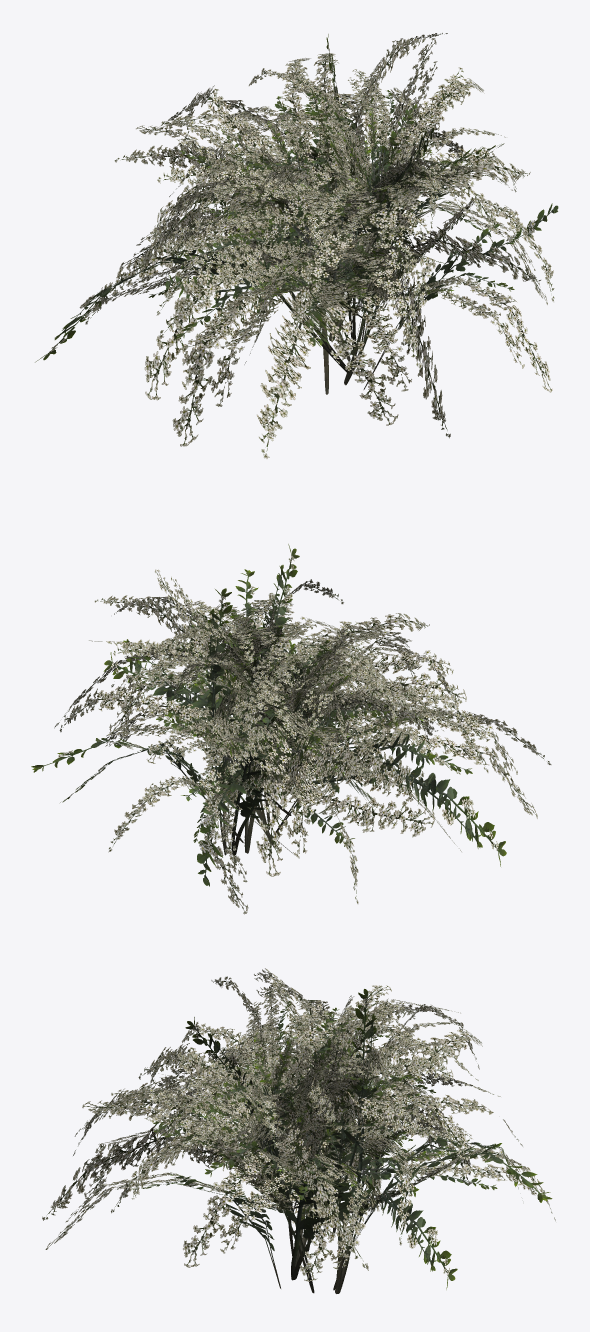
Rendered from bg_anh_foliage_briwreath01_sm_ksy.FBX.
3 views of the same model, one above another, from view 1: azimuth 30°, elevation 25°; view 2: azimuth 150°, elevation 25°; view 3: azimuth 270°, elevation 25° (orthographic). The views are drawn at different scales.
Parts seen in each view (by area): view 1: bg_anh_foliage_briwreath01_sm_ksy; view 2: bg_anh_foliage_briwreath01_sm_ksy; view 3: bg_anh_foliage_briwreath01_sm_ksy.
Boxes of the visible parts, <box> form: bg_anh_foliage_briwreath01_sm_ksy: <box>35,33,558,458</box>; bg_anh_foliage_briwreath01_sm_ksy: <box>31,544,551,914</box>; bg_anh_foliage_briwreath01_sm_ksy: <box>42,968,555,1293</box>.
Bounding box in the file's own units: 335 × 213 × 331.
